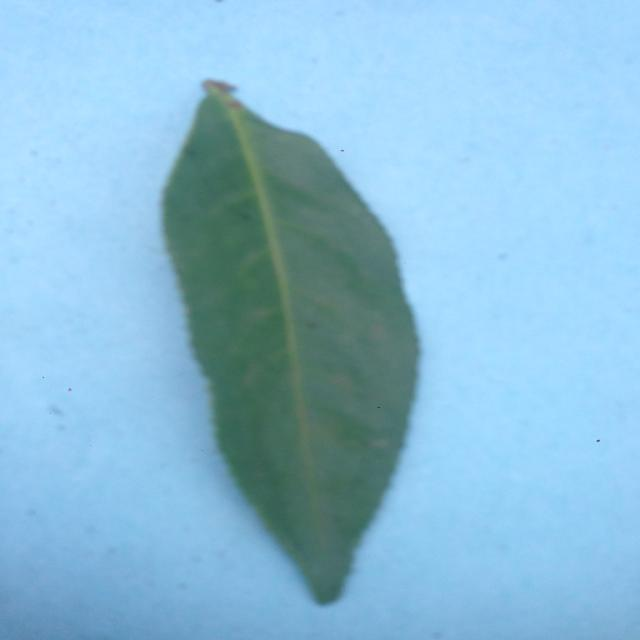Healthy: (112, 57, 469, 609)
